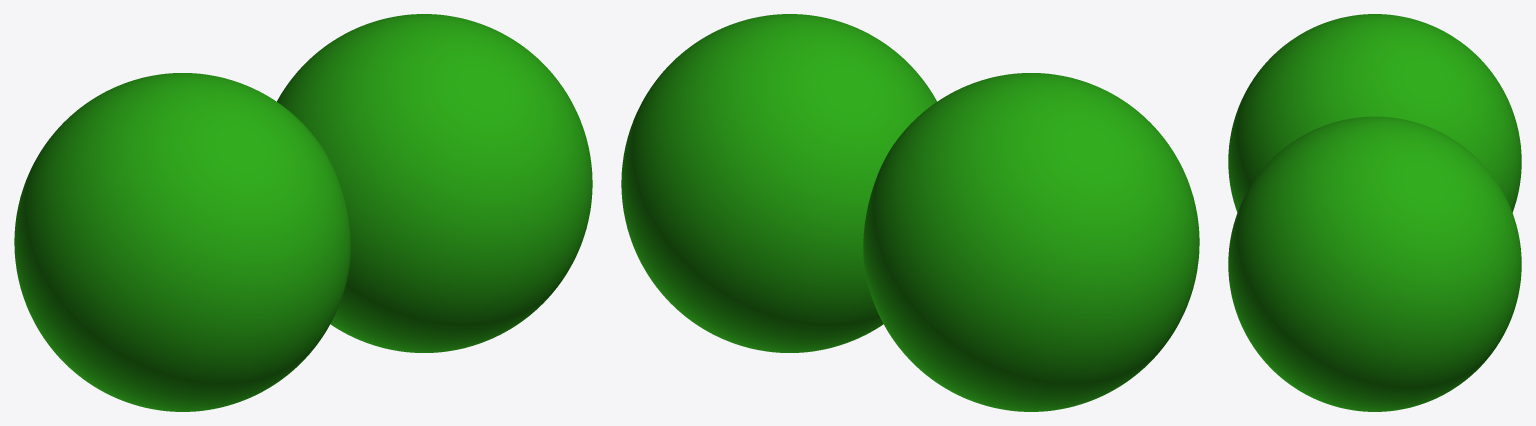
Rendered from famar.glb.
3 renders of one model, left to right at view 1: azimuth 30°, elevation 25°; view 2: azimuth 150°, elevation 25°; view 3: azimuth 270°, elevation 25°, orthographic. The views are drawn at different scales.
Visible parts, largest first — view 1: Esfera; view 2: Esfera; view 3: Esfera.
Boxes of the visible parts, x1=… form: Esfera: x1=14, y1=14, x2=592, y2=411; Esfera: x1=621, y1=14, x2=1199, y2=411; Esfera: x1=1228, y1=14, x2=1521, y2=411.
Bounding box in the file's own units: 3.6 × 1.99 × 1.97.
